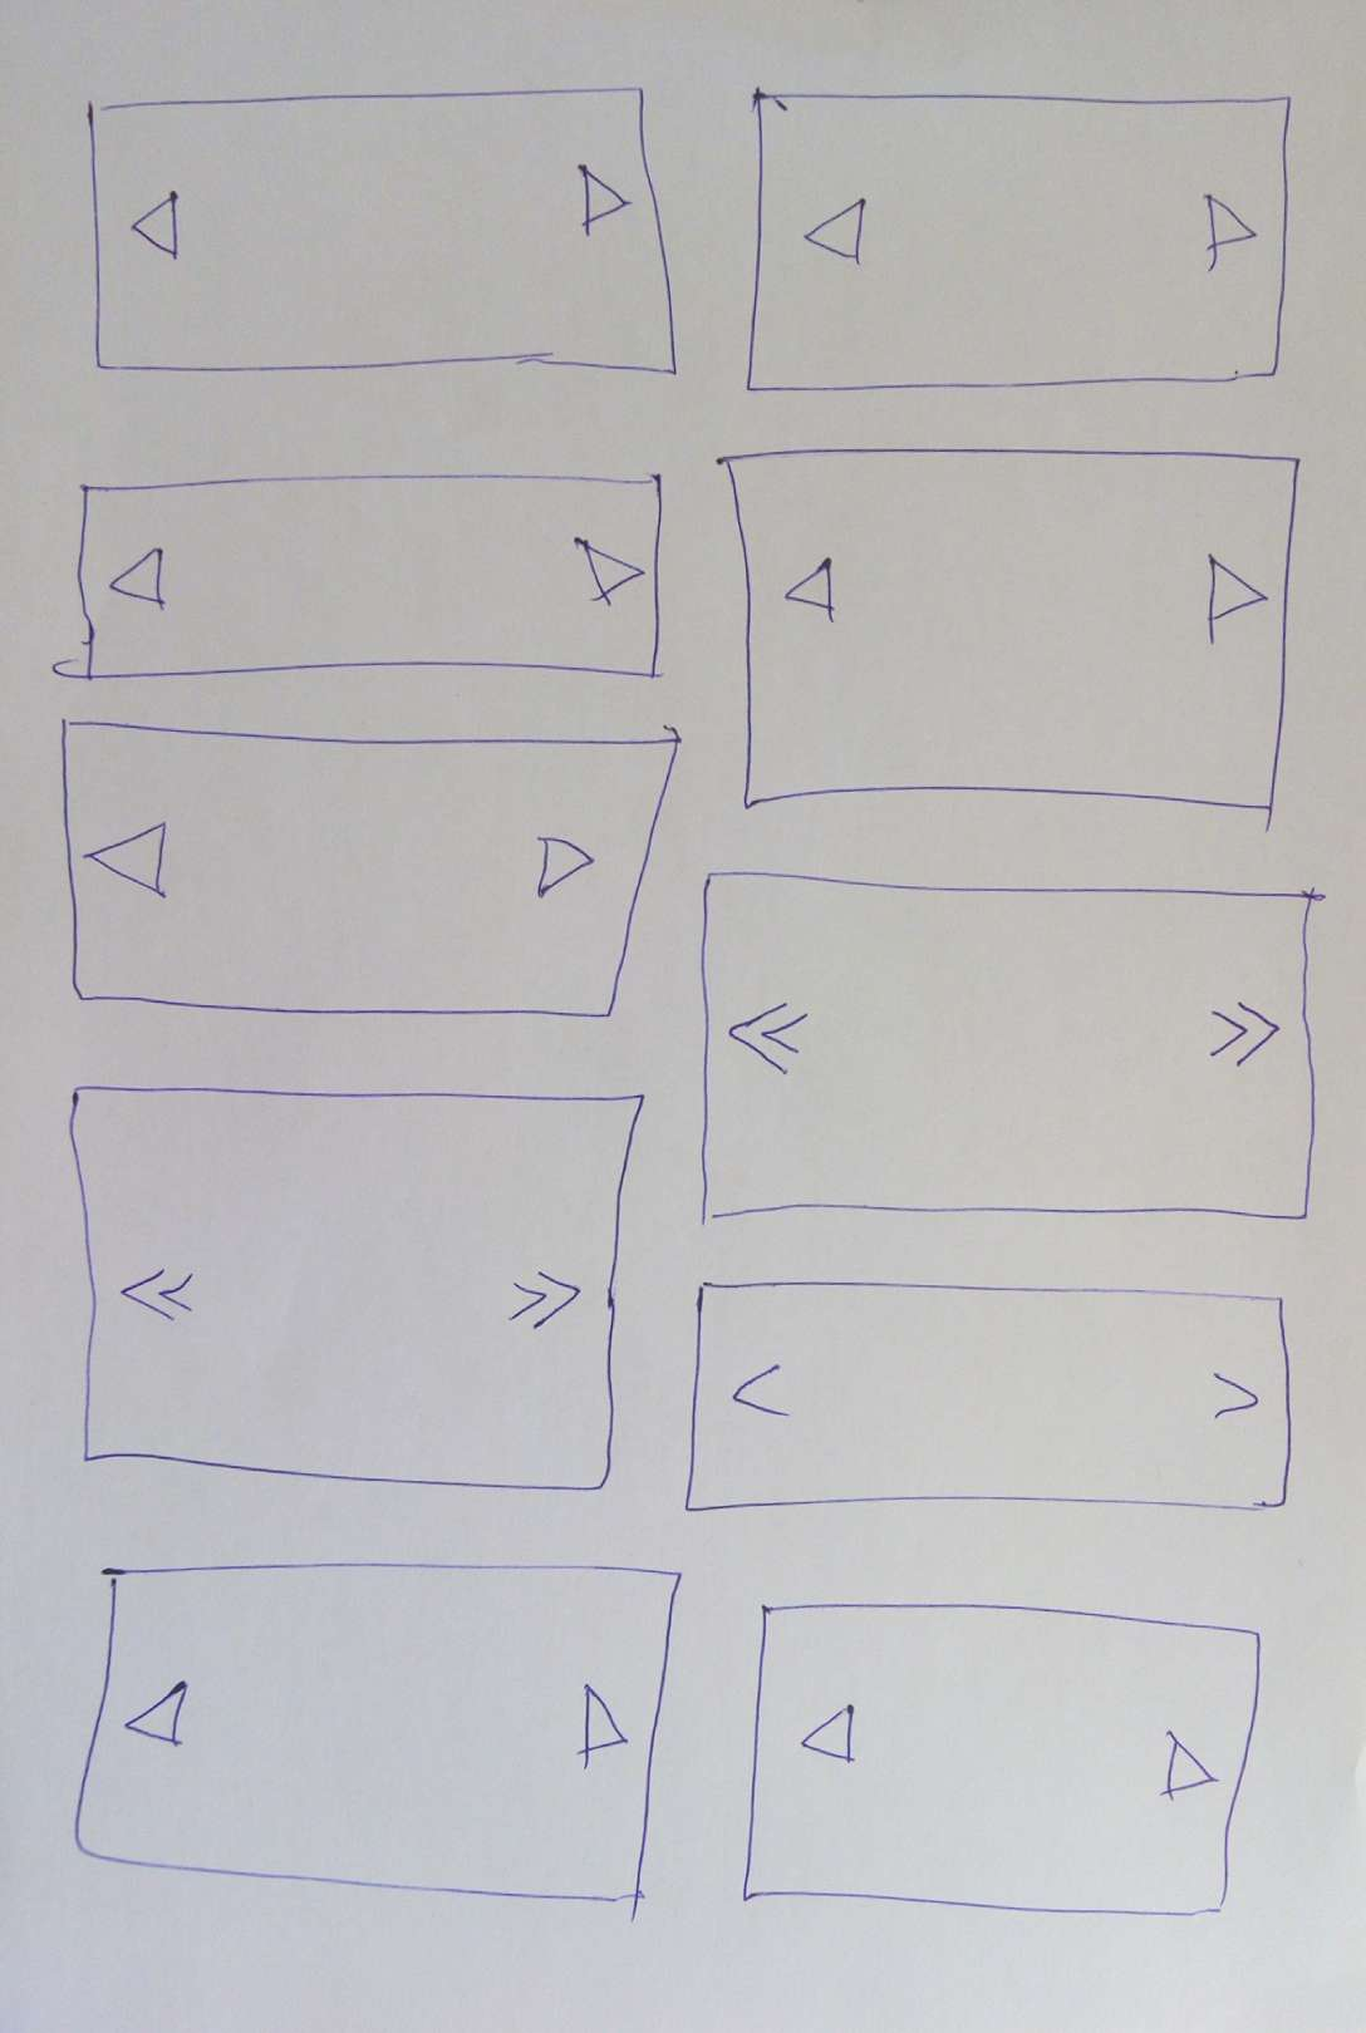Carousel: (69, 1087, 645, 1490), (717, 450, 1300, 834), (701, 872, 1326, 1225), (75, 1564, 681, 1922), (61, 718, 681, 1016), (88, 82, 677, 375), (747, 87, 1291, 392), (742, 1605, 1261, 1916), (685, 1282, 1291, 1512), (52, 463, 665, 680)
